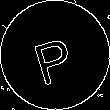P_N: (30, 25, 80, 85)
